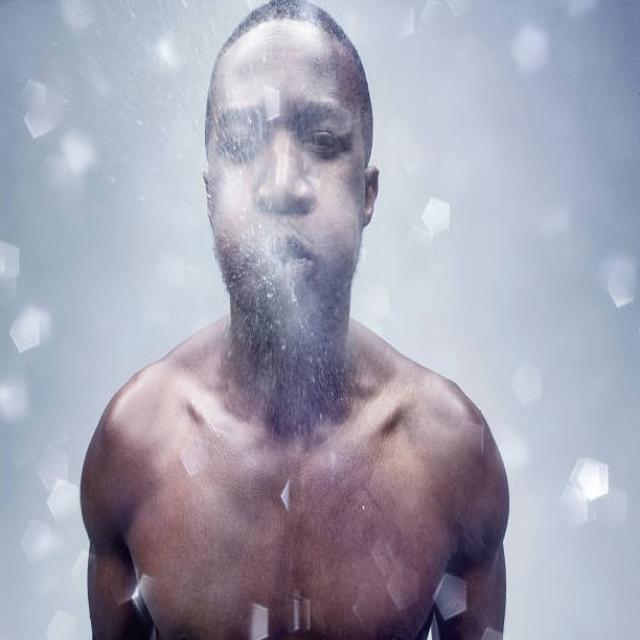Spitting: (180, 0, 391, 465)
